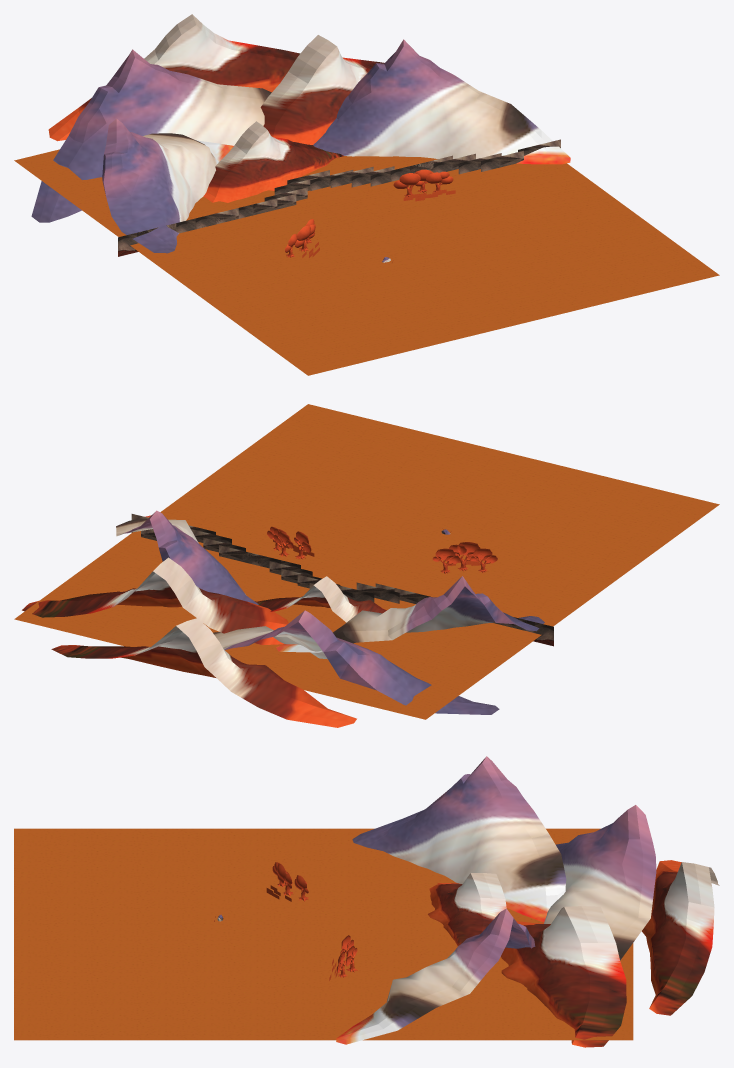
File: 325_bg_grassF.fbx
The picture shows the model from 3 angles, top to bottom: view 1: azimuth 30°, elevation 25°; view 2: azimuth 150°, elevation 25°; view 3: azimuth 270°, elevation 25°; orthographic projection. The views are drawn at different scales.
Parts seen in each view (by area): view 1: ground, polySurface1, polySurface17, polySurface18, polySurface19, polySurface20, polySurface16; view 2: ground, polySurface20, polySurface19, polySurface17, polySurface18, polySurface1, polySurface16; view 3: ground, polySurface18, polySurface19, polySurface17, polySurface20, polySurface1, polySurface16.
Part boxes in pixels (box(x1,y1,x2,y2)): ground: box(14, 149, 719, 375); polySurface1: box(313, 39, 570, 164); polySurface17: box(31, 49, 271, 222); polySurface18: box(102, 118, 233, 253); polySurface19: box(260, 35, 384, 144); polySurface20: box(48, 14, 300, 141); polySurface16: box(203, 121, 343, 202); ground: box(14, 404, 719, 719); polySurface20: box(51, 618, 356, 727); polySurface19: box(22, 557, 288, 644); polySurface17: box(213, 610, 499, 714); polySurface18: box(276, 576, 544, 652); polySurface1: box(116, 510, 258, 604); polySurface16: box(255, 576, 386, 622); ground: box(14, 828, 633, 1040); polySurface18: box(352, 756, 566, 922); polySurface19: box(501, 906, 626, 1047); polySurface17: box(544, 805, 656, 960); polySurface20: box(642, 860, 719, 1015); polySurface1: box(336, 908, 535, 1044); polySurface16: box(428, 873, 506, 945).
Bounding box in the file's own units: 5571 × 1254 × 7272.
